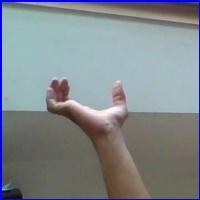B: (42, 73, 136, 137)
